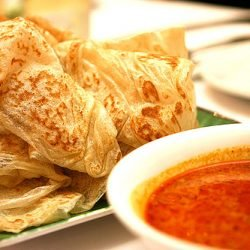sushi: (106, 123, 250, 250)
